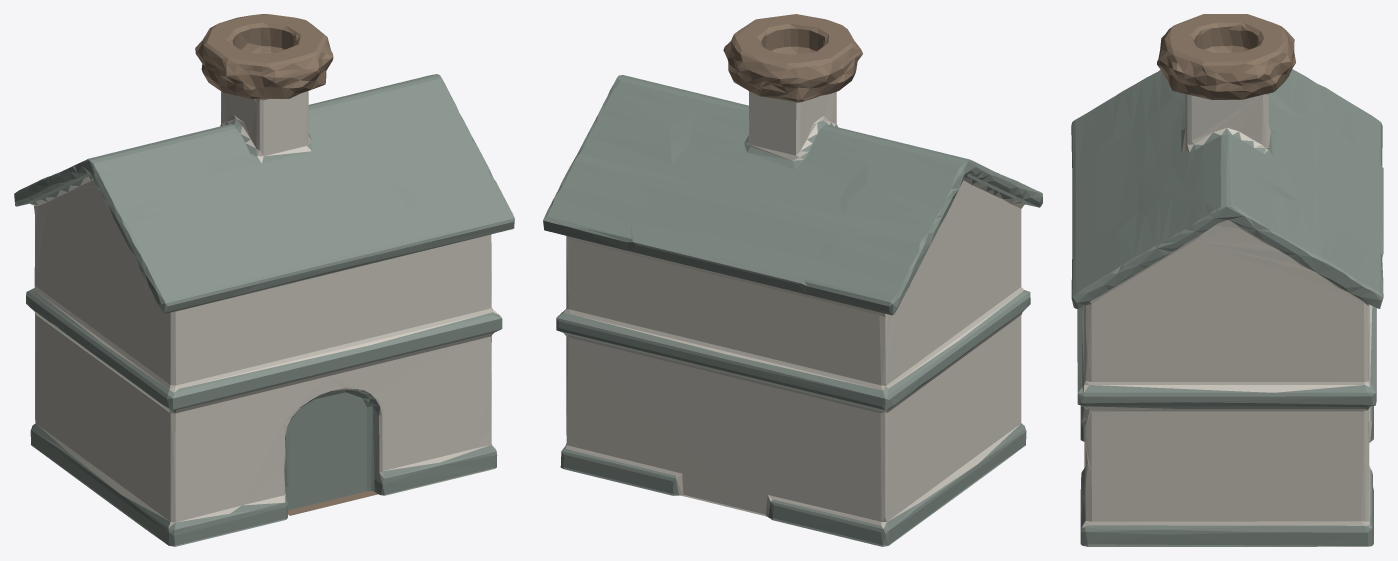
3 renders of one model, left to right at view 1: azimuth 30°, elevation 25°; view 2: azimuth 150°, elevation 25°; view 3: azimuth 270°, elevation 25°, orthographic. The views are drawn at different scales.
Parts seen in each view (by area): view 1: geometry_0; view 2: geometry_0; view 3: geometry_0.
Boxes of the visible parts, x1=… form: geometry_0: x1=14, y1=14, x2=514, y2=546; geometry_0: x1=543, y1=14, x2=1042, y2=546; geometry_0: x1=1071, y1=14, x2=1383, y2=546.
Size of the model in its own units: 0.8461 by 0.954 by 0.6321.
